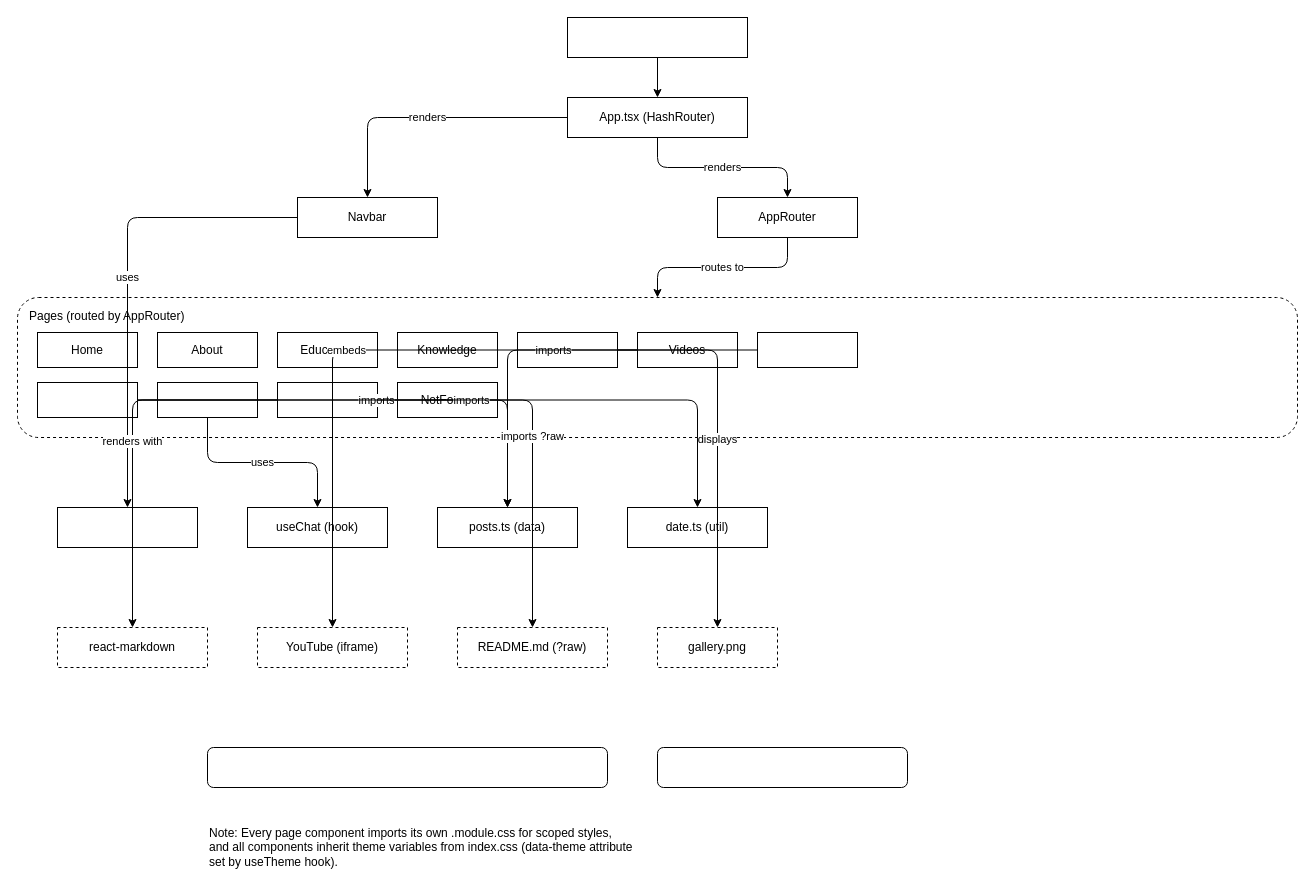
Some shapes in this 1315 by 895 pixel diagram are drawn without their labels. The centre of each missing label's shape, as x and y in pixels:
"Blog" belongs at (x=807, y=350).
"BlogDetail" belongs at (x=87, y=400).
"Gallery" belongs at (x=567, y=350).
"index.css (Theme Variables: light / dark via data-theme)" belongs at (x=407, y=767).
"main.tsx (entry)" belongs at (x=657, y=37).
"Messaging" belongs at (x=207, y=400).
"page.module.css (shared layout)" belongs at (x=782, y=767).
"Readme" belongs at (x=327, y=400).
"useTheme (hook)" belongs at (x=127, y=527).
